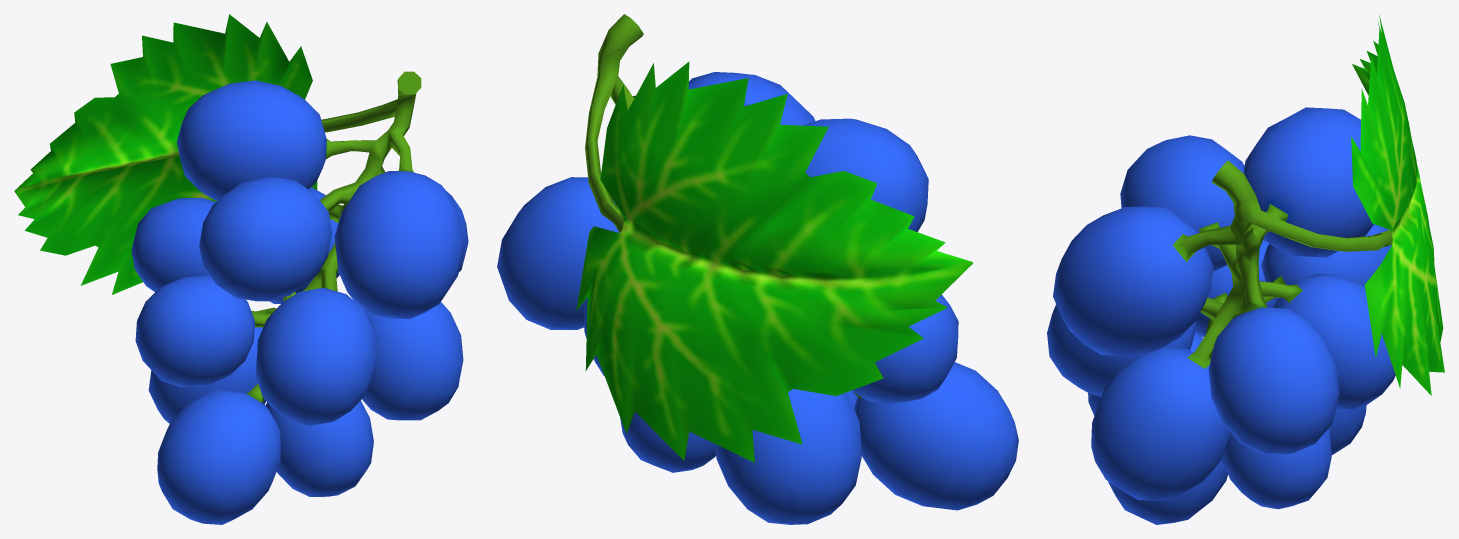
Rendered from grape_final.glb.
3 renders of one model, left to right at view 1: azimuth 30°, elevation 25°; view 2: azimuth 150°, elevation 25°; view 3: azimuth 270°, elevation 25°, orthographic. The views are drawn at different scales.
Parts seen in each view (by area): view 1: Grapes5; view 2: Grapes5; view 3: Grapes5.
Boxes of the visible parts, x1,y1,x2,y2 form: Grapes5: [14, 14, 468, 524]; Grapes5: [497, 14, 1018, 524]; Grapes5: [1047, 15, 1444, 524].
Size of the model in its own units: 1.05 by 1 by 0.7761.
1 material, 1 textured.
